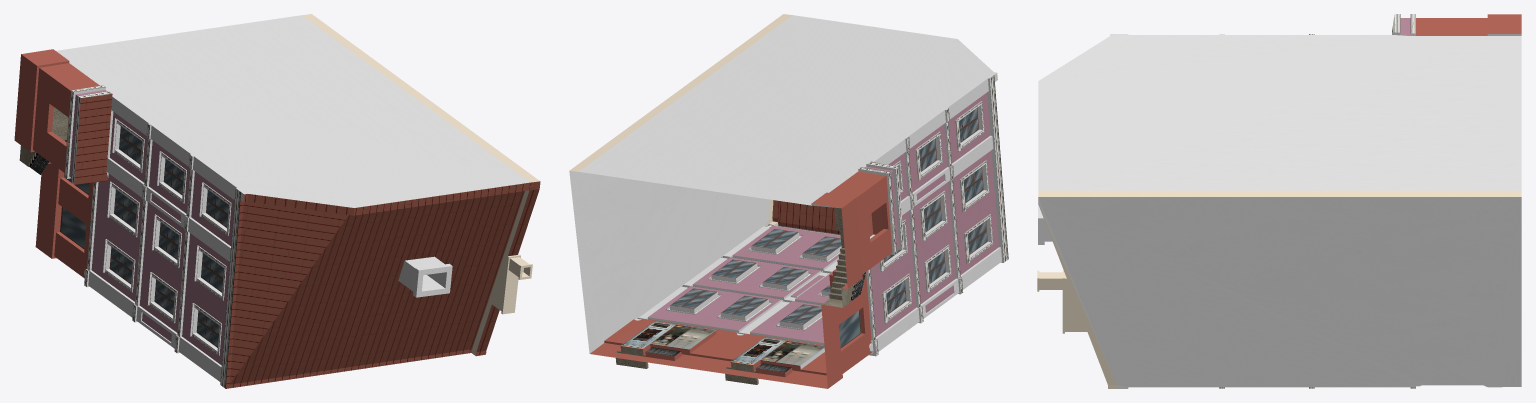
Rendered from viru_17.obj.
3 views of the same model, side by side, from view 1: azimuth 30°, elevation 25°; view 2: azimuth 150°, elevation 25°; view 3: azimuth 270°, elevation 25° (orthographic). The views are drawn at different scales.
Parts seen in each view (by area): view 1: Object001; view 2: Object001; view 3: Object001.
Boxes of the visible parts, x1,y1,x2,y2 form: Object001: (14,14,540,388); Object001: (569,14,1008,388); Object001: (1037,14,1521,388).
Size of the model in its own units: 14.21 by 10.6 by 18.95.
